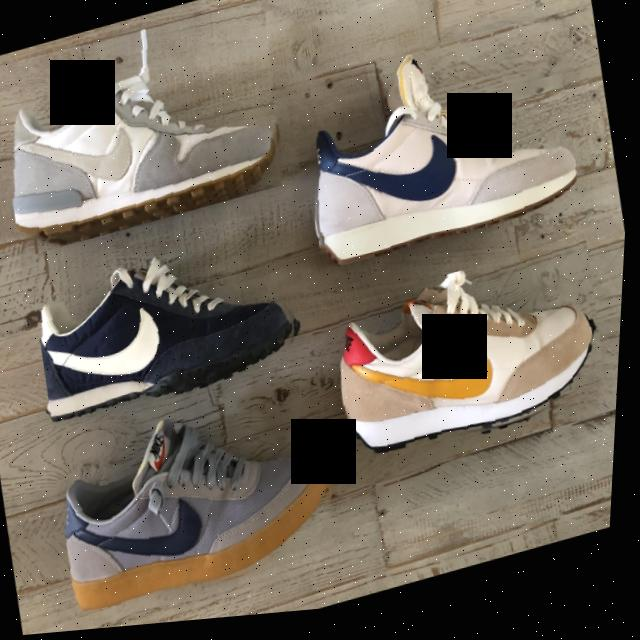shoe: (286, 22, 593, 289), (0, 0, 299, 261), (51, 381, 356, 631), (320, 245, 621, 484), (31, 224, 317, 433)
